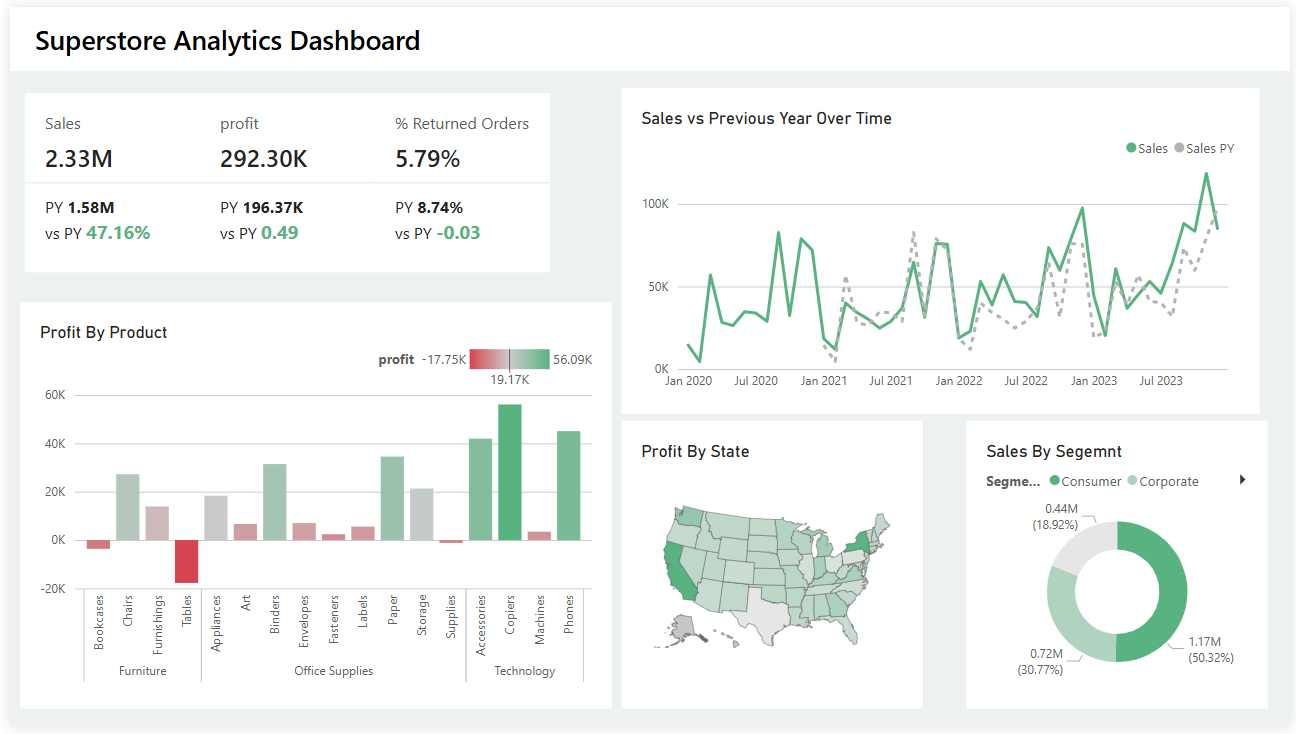

What the dashboard file says about the page in this screenshot:
{"tool":"powerbi","page":{"name":"Page 1","canvas":[1280,720],"ordinal":0},"visuals":[{"type":"cardVisual","fields":{"Data":["Key Measures.Sales","Key Measures.profit","Key Measures.% Returned Orders"]},"box":[9.7,80.8,535.7,189.4],"z":0},{"type":"shape","box":[0,0,1280,63.9],"z":1000},{"type":"lineChart","title":"Sales vs Previous Year Over Time","fields":{"Y":["Key Measures.Sales","Key Measures.Sales PY"],"Category":["Date Table.Start of month"]},"box":[611.7,80.8,638.2,325.7],"z":2000},{"type":"columnChart","title":"Profit By Product","fields":{"Category":["Orders.Category","Orders.Sub-Category"],"Y":["Key Measures.profit"]},"box":[9.7,295.6,592.4,406.6],"z":3000},{"type":"shapeMap","title":"Profit By State","fields":{"Category":["Orders.State/Province"],"Value":["Key Measures.profit"]},"box":[611.7,413.8,301.6,288.3],"z":4000},{"type":"donutChart","title":"Sales By Segemnt","fields":{"Category":["Orders.Segment"],"Y":["Key Measures.Sales"]},"box":[956.8,413.7,301.9,288.4],"z":4001}]}

Visuals, with their boxes in screenshot pixels (x1, y1, x2, y2), scaled from the page's 1280x720 canvas onto the 1296x734 screenshot:
cardVisual - Key Measures.Sales x Key Measures.profit: box(10, 82, 552, 275)
shape: box(0, 0, 1295, 65)
"Sales vs Previous Year Over Time" lineChart: box(619, 82, 1266, 414)
"Profit By Product" columnChart: box(10, 301, 610, 716)
"Profit By State" shapeMap: box(619, 422, 925, 716)
"Sales By Segemnt" donutChart: box(969, 422, 1274, 716)
